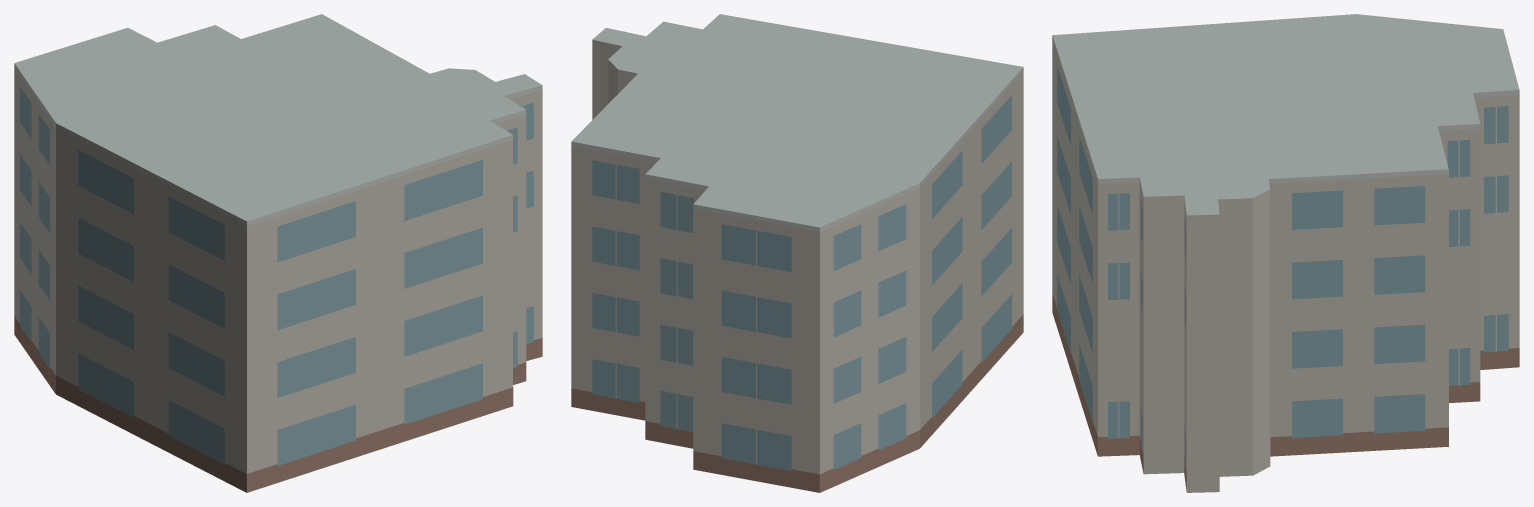
Rendered from survey-upis-32785300.glb.
3 renders of one model, left to right at view 1: azimuth 30°, elevation 25°; view 2: azimuth 150°, elevation 25°; view 3: azimuth 270°, elevation 25°, orthographic. The views are drawn at different scales.
Parts seen in each view (by area): view 1: survey-upis-32785300.tmp; view 2: survey-upis-32785300.tmp; view 3: survey-upis-32785300.tmp.
Boxes of the visible parts, bbox=[...] form: survey-upis-32785300.tmp: bbox=[14, 14, 542, 492]; survey-upis-32785300.tmp: bbox=[571, 14, 1023, 492]; survey-upis-32785300.tmp: bbox=[1052, 14, 1519, 492].
Size of the model in its own units: 21.41 by 13.75 by 20.99.
